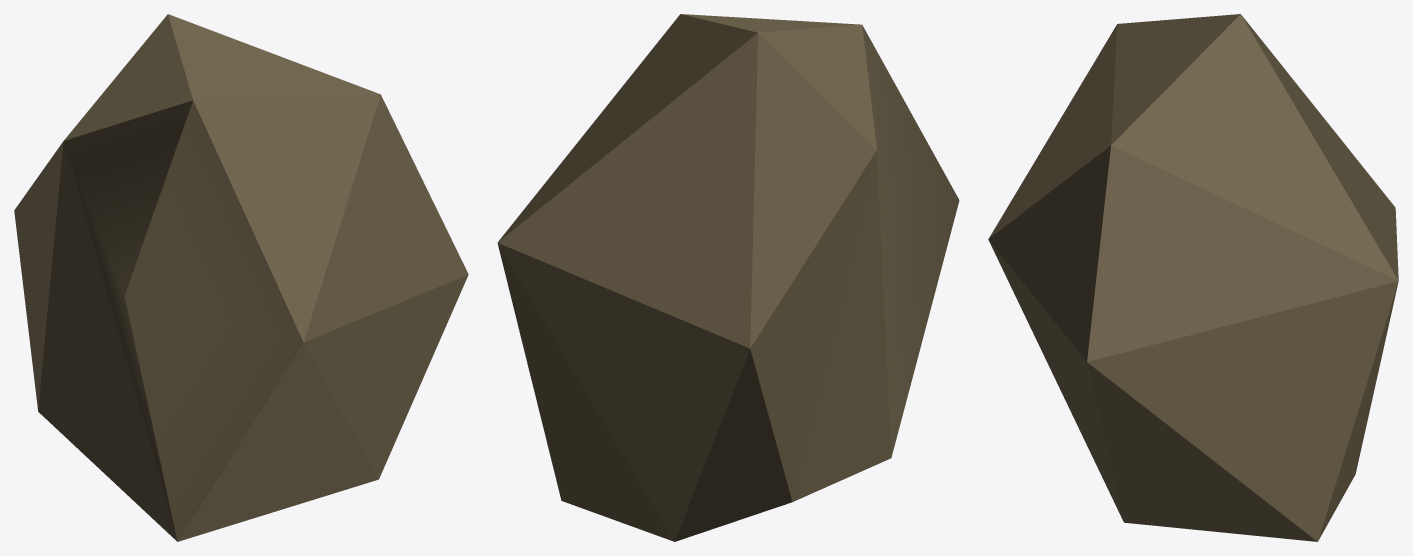
File: SM_Env_Bush_Small_03.fbx
3 views of the same model, side by side, from view 1: azimuth 30°, elevation 25°; view 2: azimuth 150°, elevation 25°; view 3: azimuth 270°, elevation 25° (orthographic). The views are drawn at different scales.
Parts seen in each view (by area): view 1: SM_Env_Bush_Small_03; view 2: SM_Env_Bush_Small_03; view 3: SM_Env_Bush_Small_03.
Part boxes in pixels (x1=…): SM_Env_Bush_Small_03: x1=14, y1=14, x2=468, y2=541; SM_Env_Bush_Small_03: x1=497, y1=14, x2=959, y2=541; SM_Env_Bush_Small_03: x1=988, y1=14, x2=1398, y2=541.
Size of the model in its own units: 44.86 by 59.43 by 48.58.
